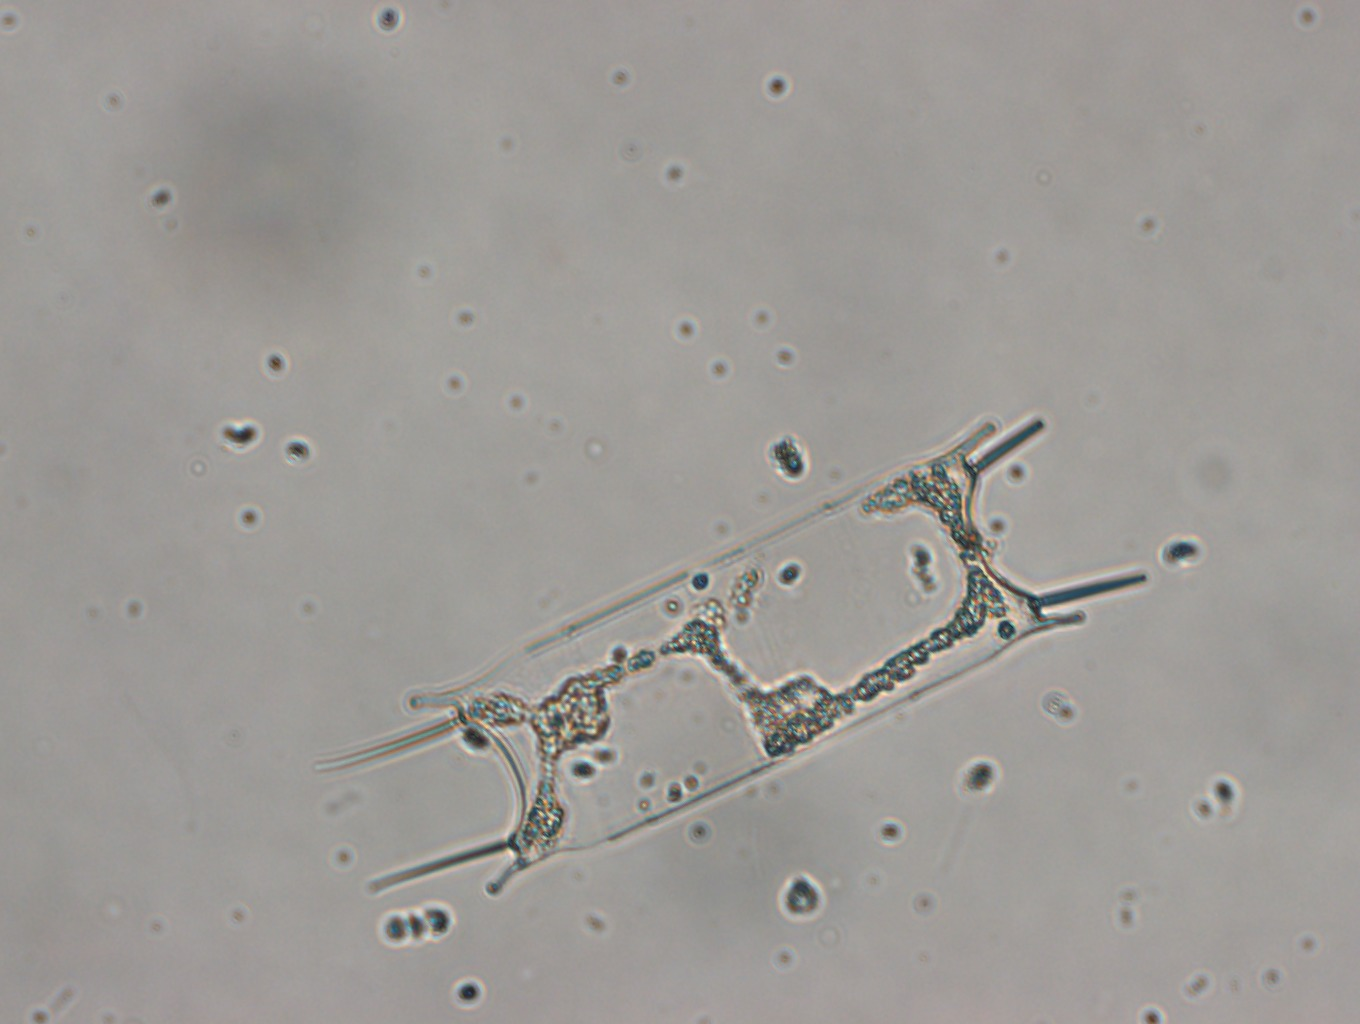biddulphia: (314, 406, 1155, 911)
